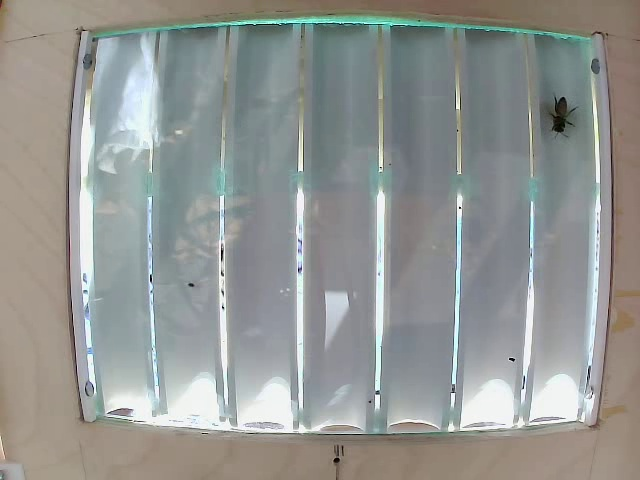bee: (544, 87, 579, 144)
